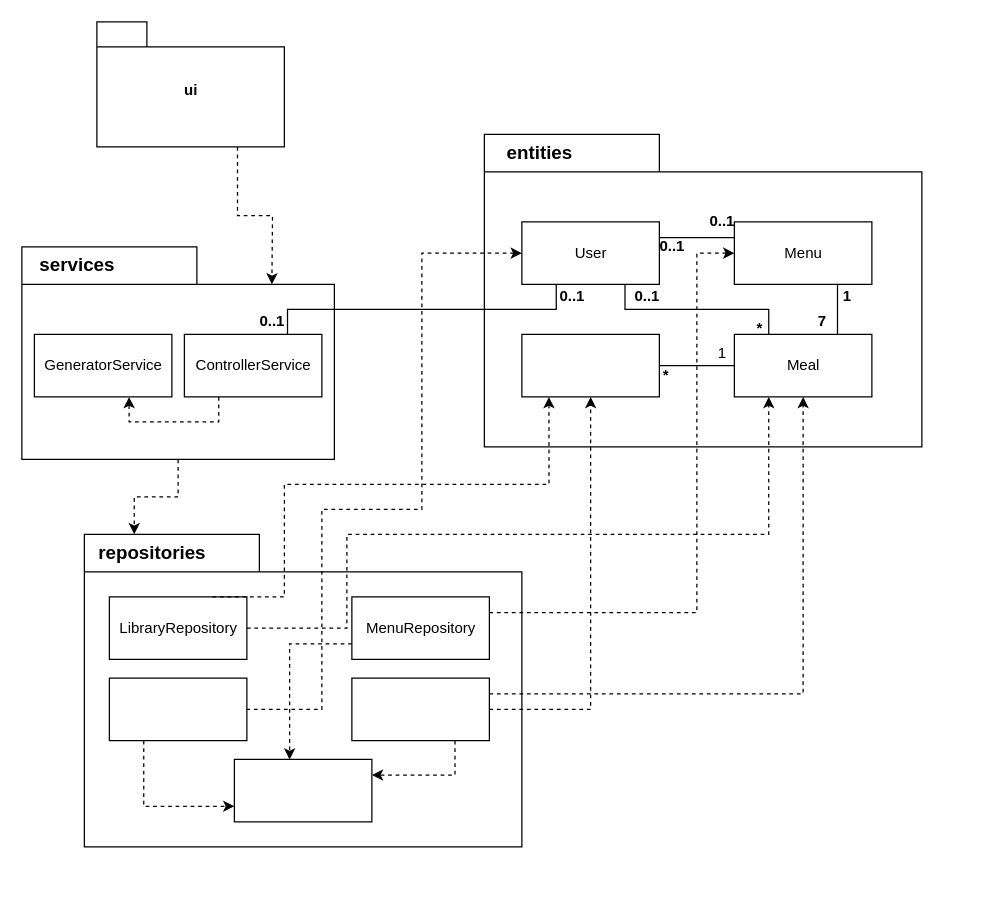
Some shapes in this 1006 by 906 pixel diagram are drawn without their labels. Each missing label, with the box of its shape:
Ingredient: (521, 333, 659, 397)
InputOutput: (233, 758, 372, 822)
MealRepository: (351, 677, 489, 741)
UserRepository: (108, 677, 247, 741)
